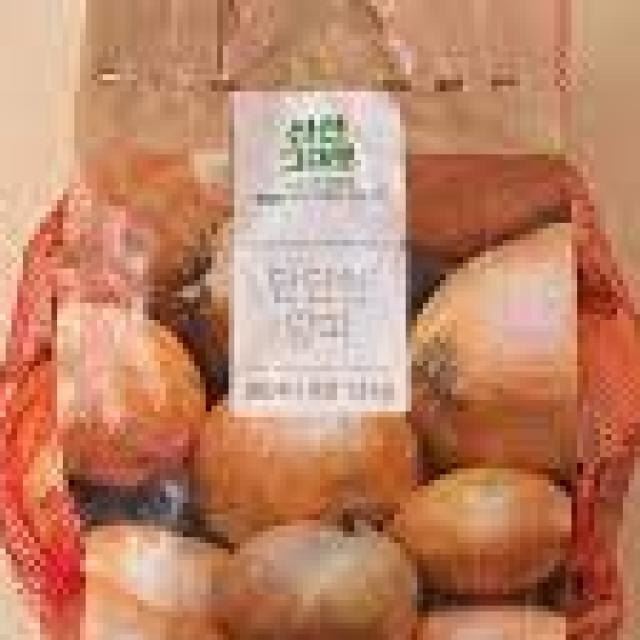onion: (51, 200, 588, 640)
